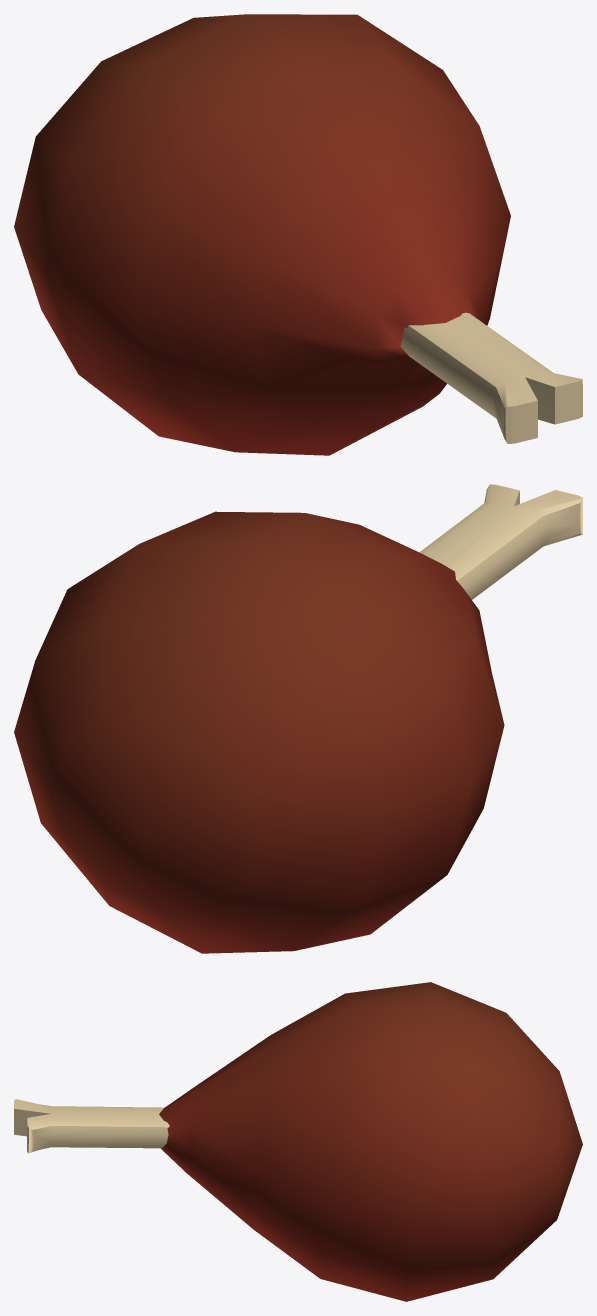
The model's file is Food_chiken.fbx.
3 renders of one model, top to bottom at view 1: azimuth 30°, elevation 25°; view 2: azimuth 150°, elevation 25°; view 3: azimuth 270°, elevation 25°, orthographic. The views are drawn at different scales.
Visible parts, largest first — view 1: Food_chiken; view 2: Food_chiken; view 3: Food_chiken.
Boxes of the visible parts, <box> form: Food_chiken: <box>14,14,582,455</box>; Food_chiken: <box>14,484,582,953</box>; Food_chiken: <box>14,982,582,1301</box>.
Bounding box in the file's own units: 15.3 × 13.88 × 25.14.
